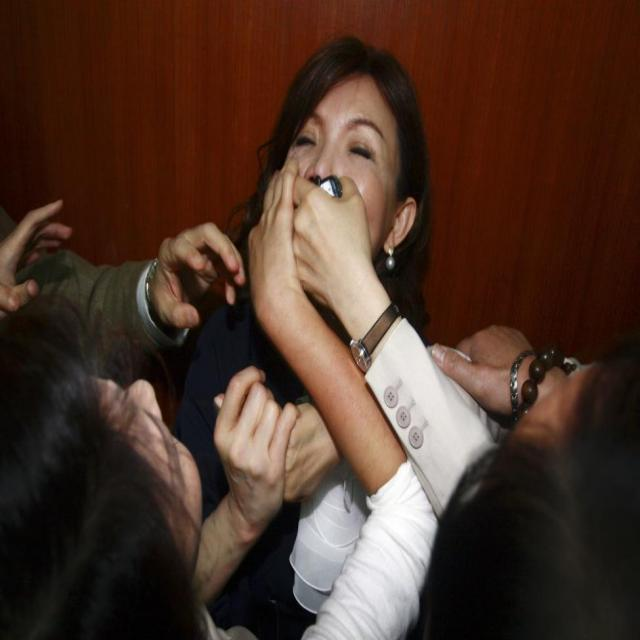nomask: (274, 74, 388, 285)
